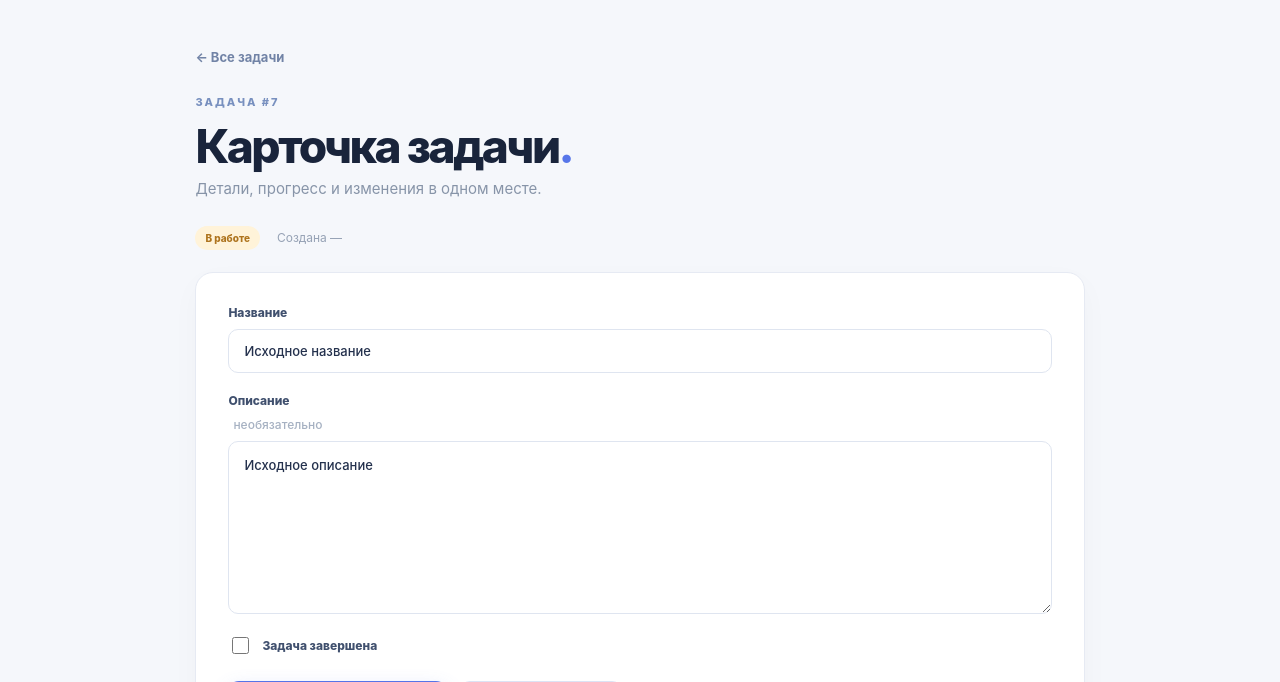
Scenario: keeps unsaved text when completing a task with the quick action
Replace the text in the field named "title" with "Несохранённое название". click: (640, 351)
box: [228,329,1052,373]
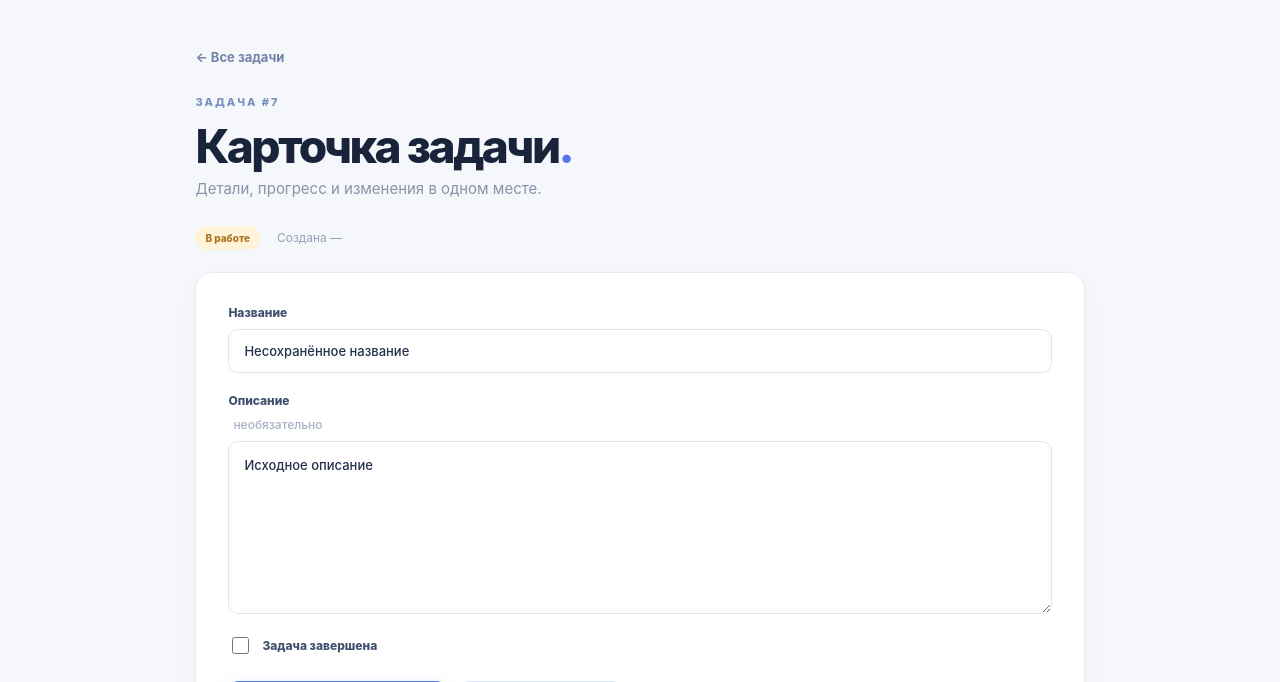
Replace the text in the text box named "description" with "Несохранённое описание". click: (640, 527)
box: [228,441,1052,614]
(page scrolled)
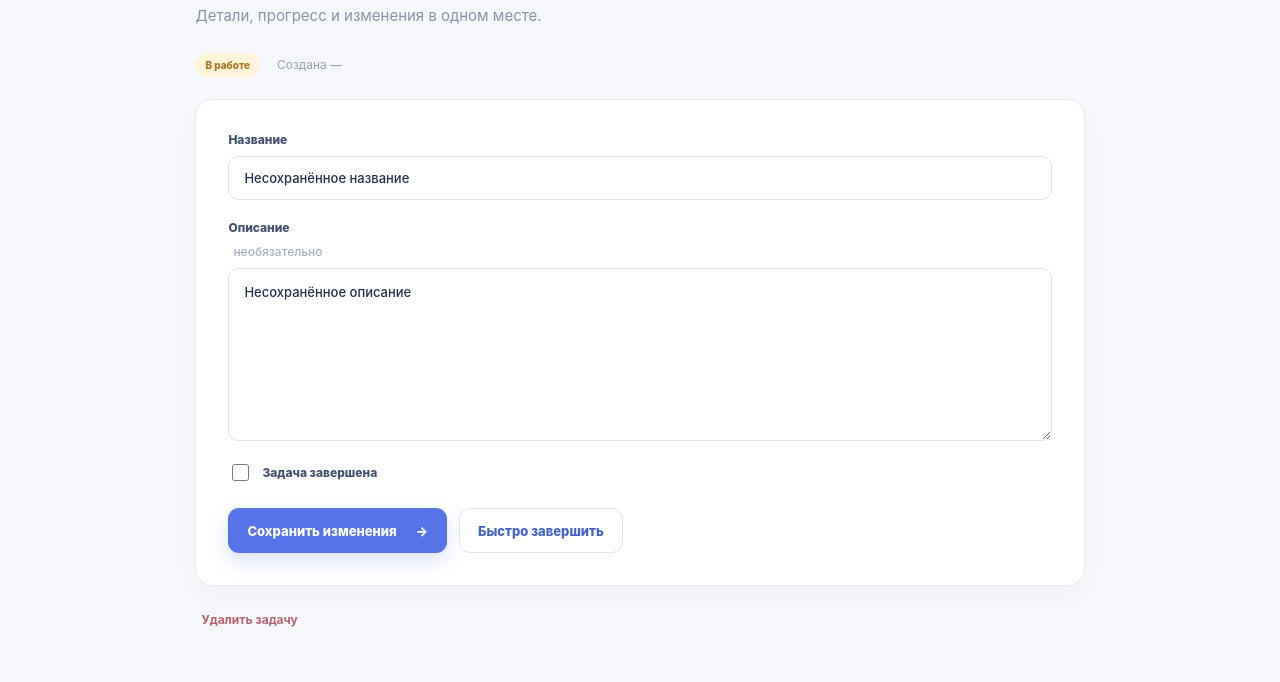
Click the button with class "button--secondary". click: (541, 531)
box: [459,508,623,553]
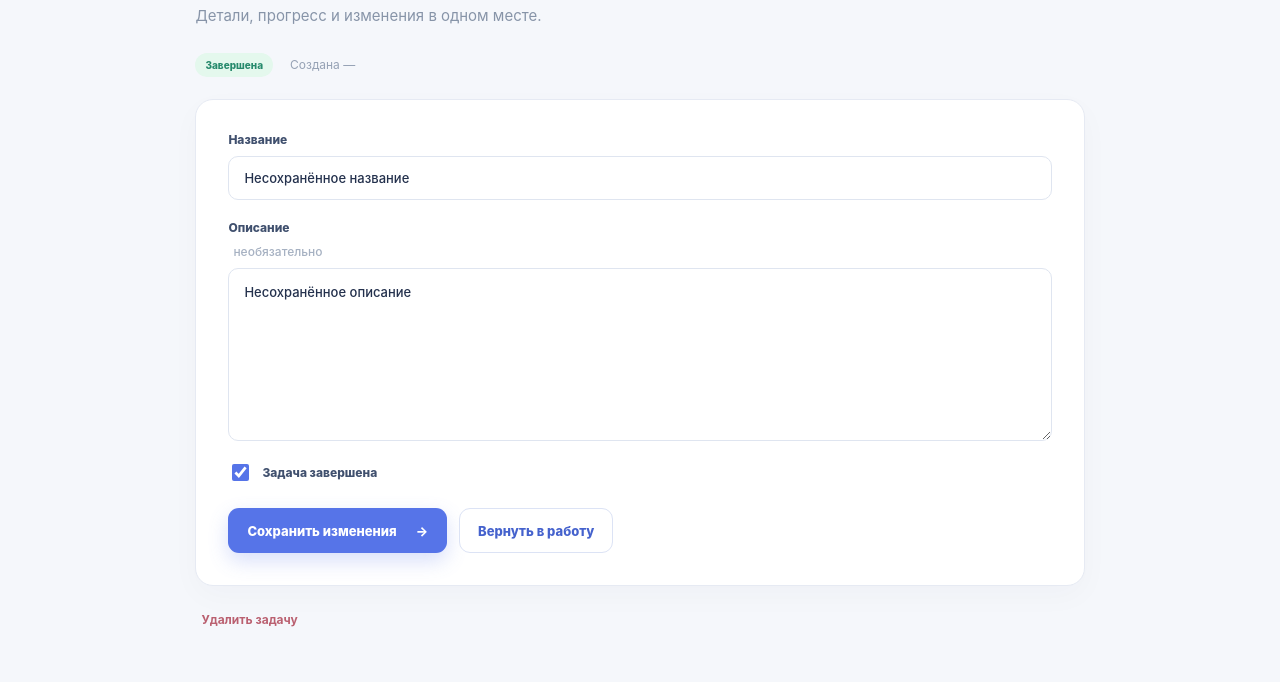
Now the checkbox named "completed" is checked, box [232,464,249,481]
